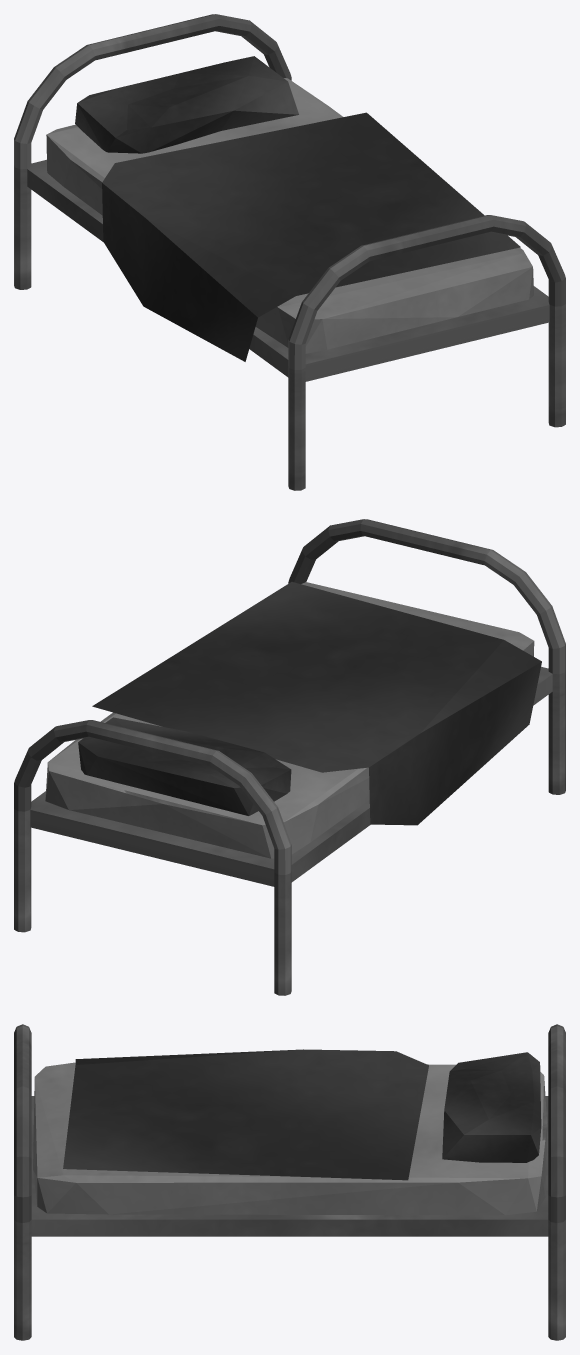
Rendered from Bed.fbx.
3 views of the same model, one above another, from view 1: azimuth 30°, elevation 25°; view 2: azimuth 150°, elevation 25°; view 3: azimuth 270°, elevation 25° (orthographic). The views are drawn at different scales.
Visible parts, largest first — view 1: Bed; view 2: Bed; view 3: Bed.
Boxes of the visible parts, x1,y1,x2,y2 form: Bed: (14, 14, 565, 490); Bed: (14, 519, 565, 995); Bed: (14, 1024, 565, 1340).
Bounding box in the file's own units: 108 × 82.61 × 189.
